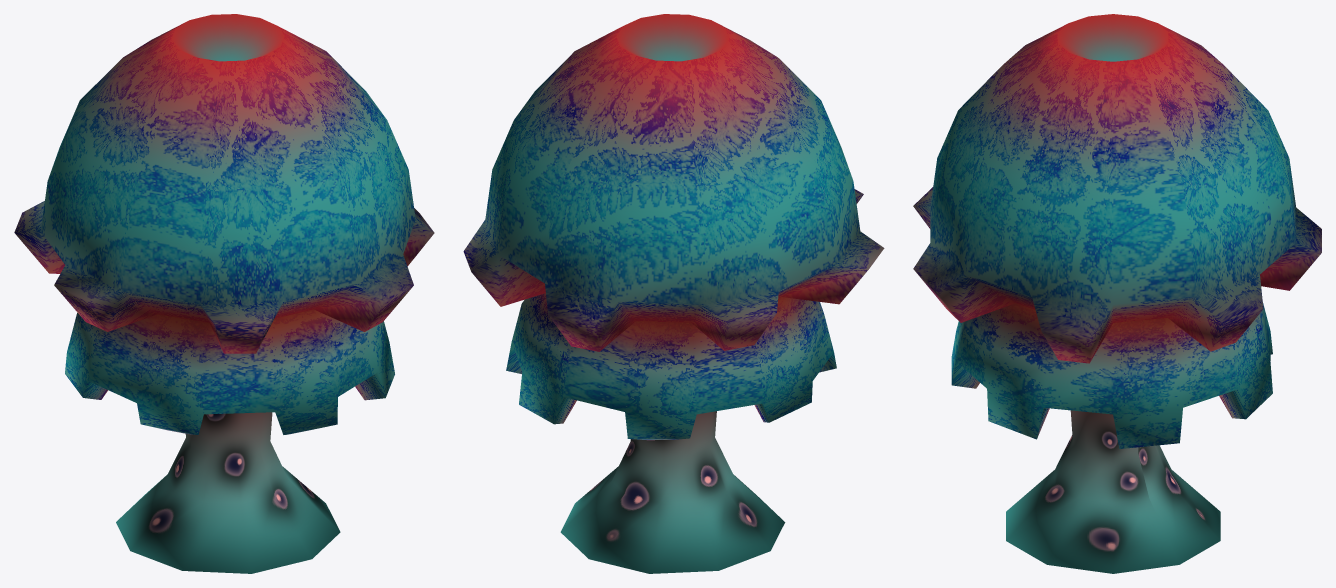
The model's file is Trap_Skewer.FBX.
3 views of the same model, side by side, from view 1: azimuth 30°, elevation 25°; view 2: azimuth 150°, elevation 25°; view 3: azimuth 270°, elevation 25° (orthographic).
Visible parts, largest first — view 1: Cylinder002; view 2: Cylinder002; view 3: Cylinder002.
Boxes of the visible parts, x1,y1,x2,y2 form: Cylinder002: (14,14,434,573); Cylinder002: (463,14,884,573); Cylinder002: (913,14,1321,573).
Size of the model in its own units: 33.68 by 43.08 by 32.68.
